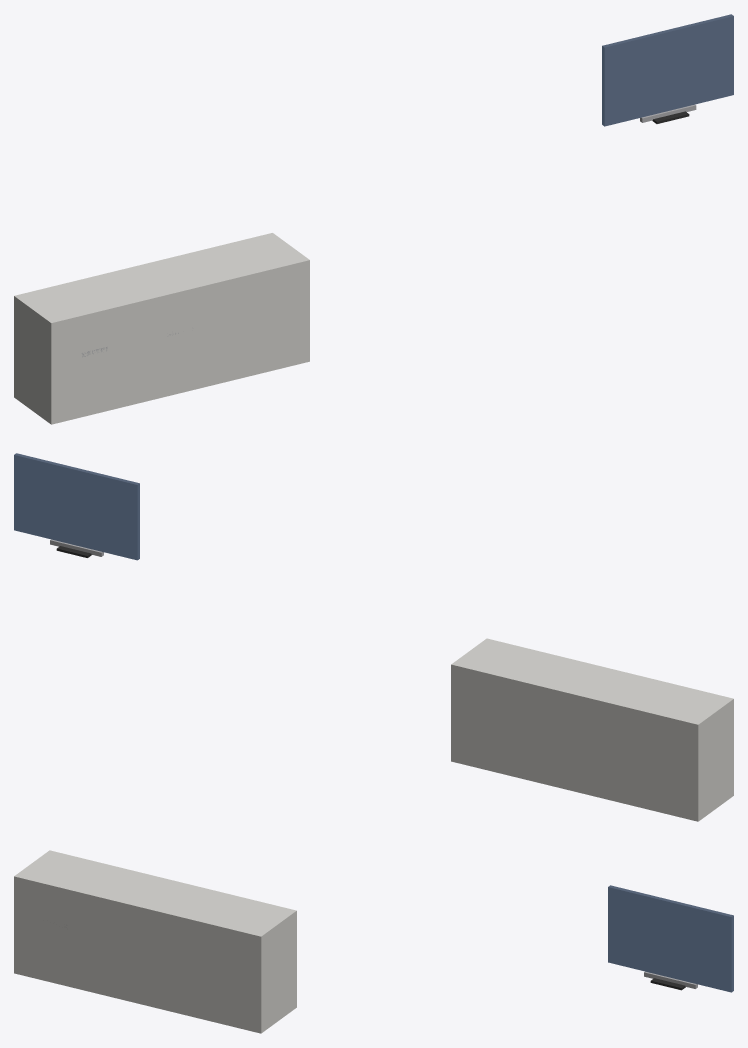
Rendered from Kitchen.glb.
The picture shows the model from 3 angles, top to bottom: view 1: azimuth 30°, elevation 25°; view 2: azimuth 150°, elevation 25°; view 3: azimuth 330°, elevation 25°; orthographic projection. The views are drawn at different scales.
Visible parts, largest first — view 1: Counter, TVScreen; view 2: Counter, TVScreen; view 3: Counter, TVScreen.
Part boxes in pixels (<box>): Counter: <box>14,233,309,424</box>; TVScreen: <box>602,14,733,126</box>; Counter: <box>451,638,733,821</box>; TVScreen: <box>14,453,139,560</box>; Counter: <box>14,850,296,1033</box>; TVScreen: <box>608,885,733,992</box>.
Bounding box in the file's own units: 6.65 × 1.85 × 0.65.
